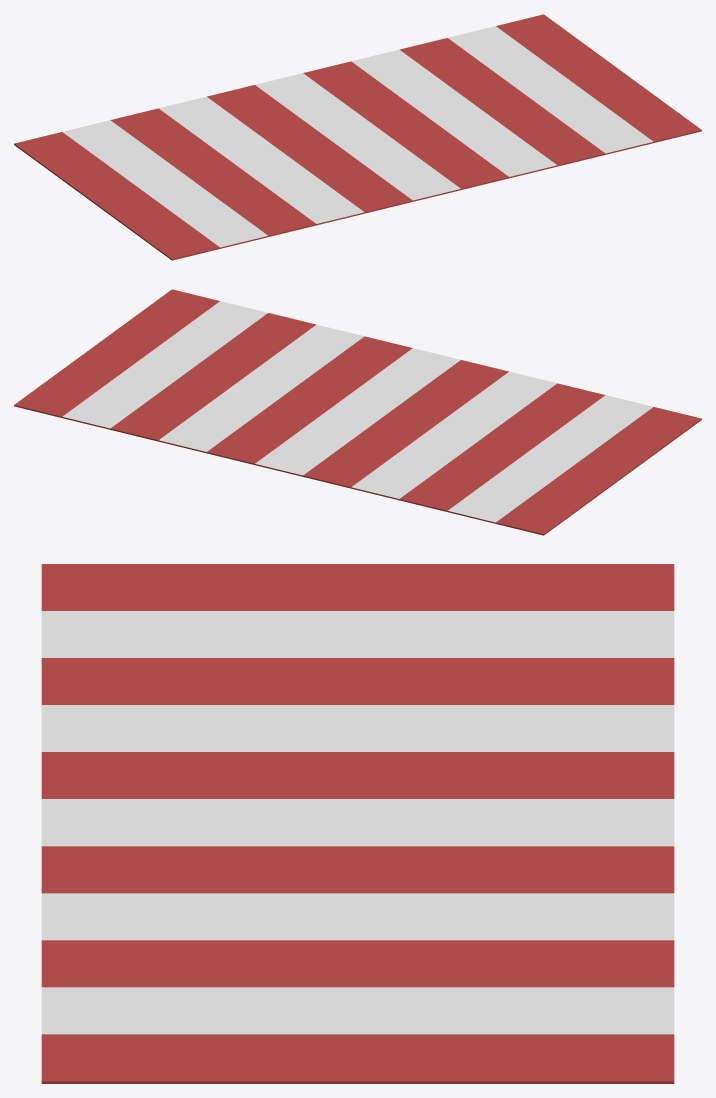
Rendered from Towel4.fbx.
3 renders of one model, top to bottom at view 1: azimuth 30°, elevation 25°; view 2: azimuth 150°, elevation 25°; view 3: azimuth 270°, elevation 25°, orthographic. The views are drawn at different scales.
Visible parts, largest first — view 1: Cube; view 2: Cube; view 3: Cube.
Part boxes in pixels (x1=…): Cube: x1=14, y1=14, x2=701, y2=260; Cube: x1=14, y1=289, x2=701, y2=535; Cube: x1=41, y1=564, x2=674, y2=1083.
Bounding box in the file's own units: 159 × 0.3818 × 82.14.
